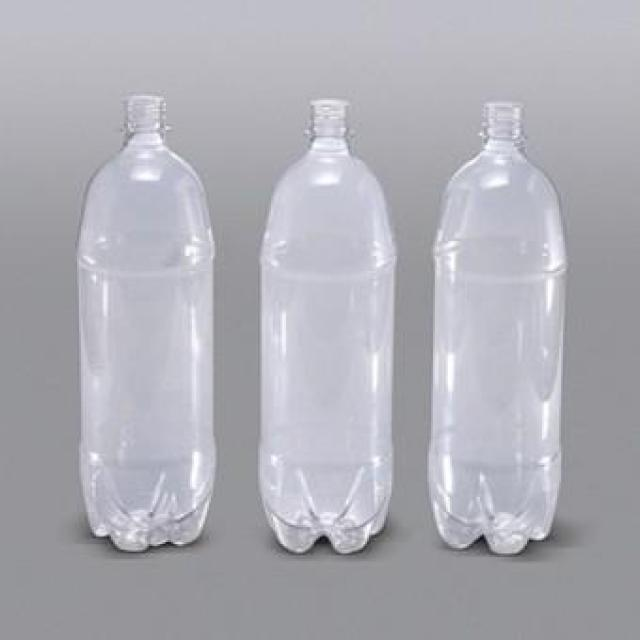bottle: (75, 101, 218, 550), (258, 101, 391, 550), (431, 95, 559, 547)
